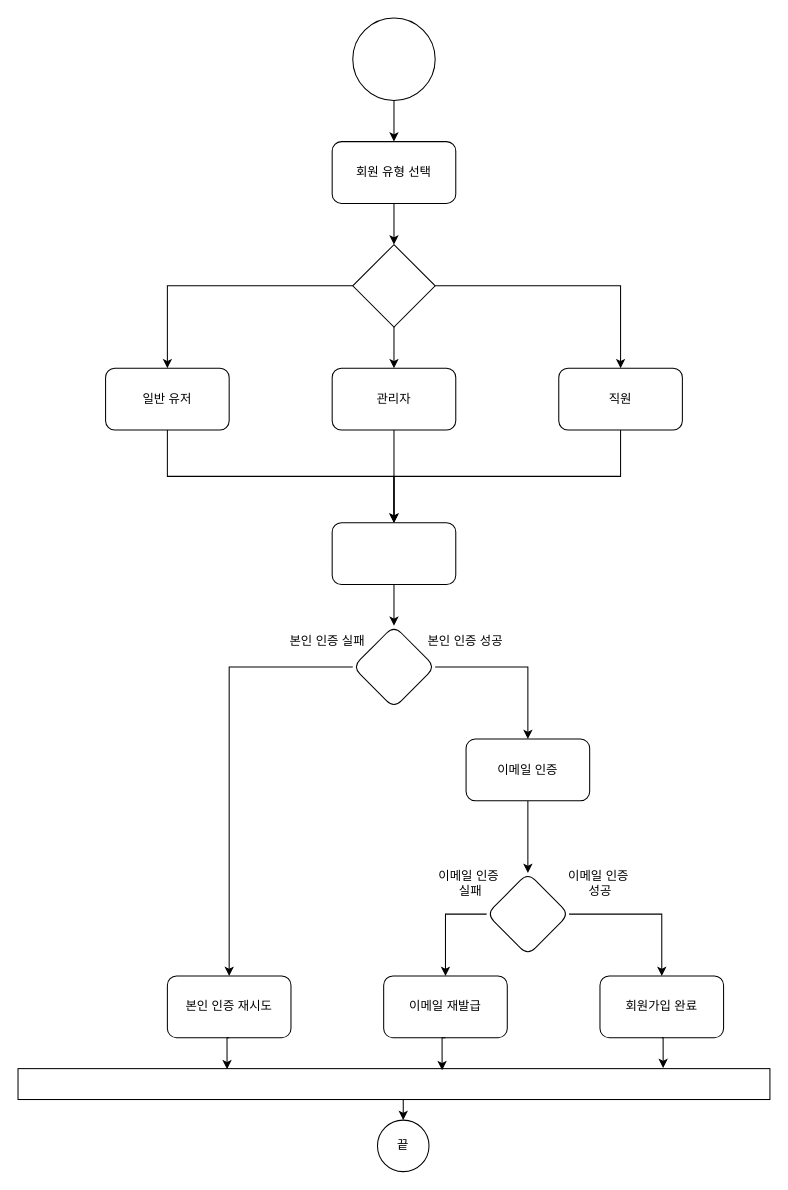
The diagram is 788 pixels wide and 1190 high, and some of its shapes have lost their labels. The centre of each missing label's shape, as x and y in pixels:
"본인인증" belongs at pixel 393 553.
"시작" belongs at pixel 393 58.
